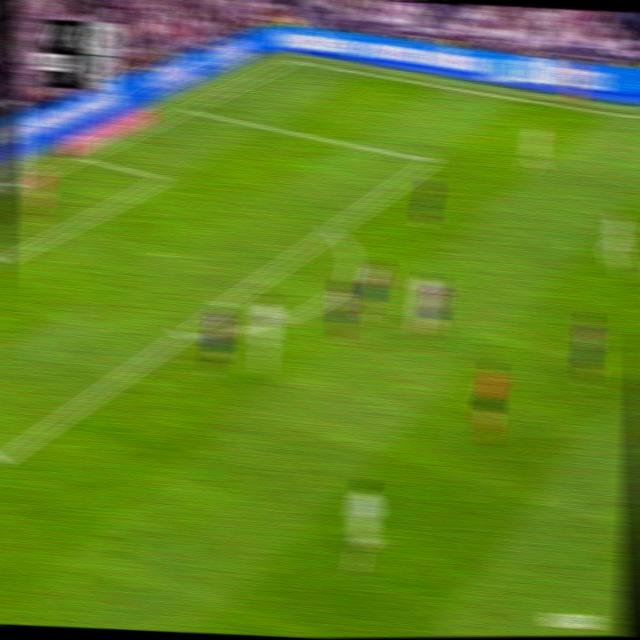bigarea_top_inner: (422, 150, 441, 170)
bigarea_top_outter: (180, 100, 198, 117)
bottom_arc_area_intersection: (172, 319, 196, 349)
corner: (282, 52, 302, 65)
smallarea_top_inner: (154, 167, 174, 188)
top_arc_area_intersection: (322, 217, 342, 241)
